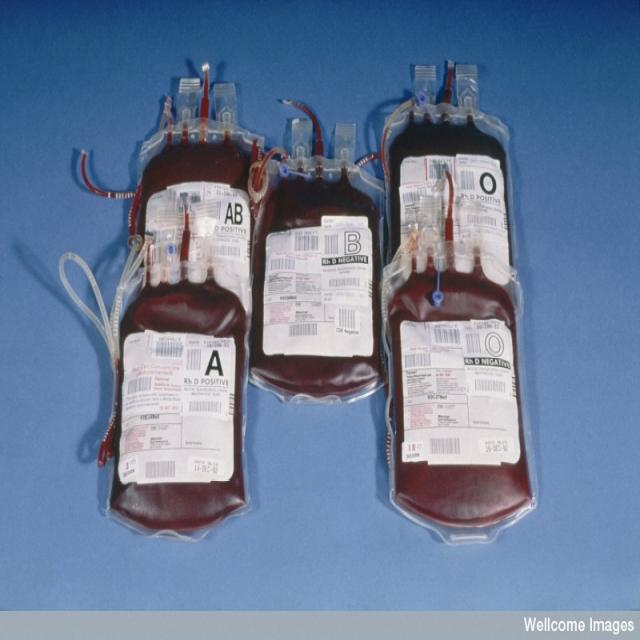B3: (388, 230, 536, 555), (109, 256, 253, 546), (259, 137, 381, 424)
